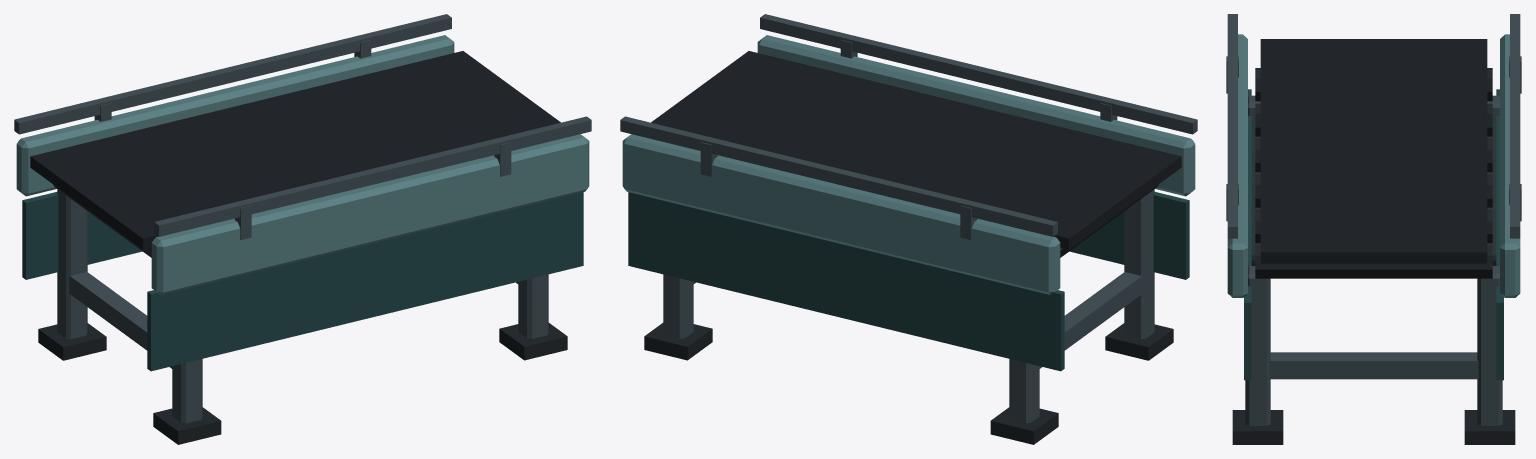
Rendered from Env_Conveyor.fbx.
3 renders of one model, left to right at view 1: azimuth 30°, elevation 25°; view 2: azimuth 150°, elevation 25°; view 3: azimuth 270°, elevation 25°, orthographic.
Visible parts, largest first — view 1: Env_Conveyor; view 2: Env_Conveyor; view 3: Env_Conveyor.
Part boxes in pixels (x1=…): Env_Conveyor: x1=14, y1=14, x2=591, y2=444; Env_Conveyor: x1=620, y1=14, x2=1197, y2=444; Env_Conveyor: x1=1226, y1=14, x2=1521, y2=444.
Size of the model in its own units: 2 by 1.17 by 1.
